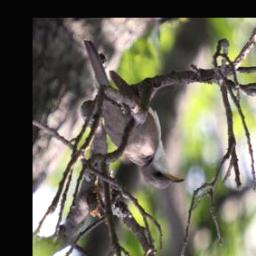Cuckoo: (84, 35, 186, 194)
